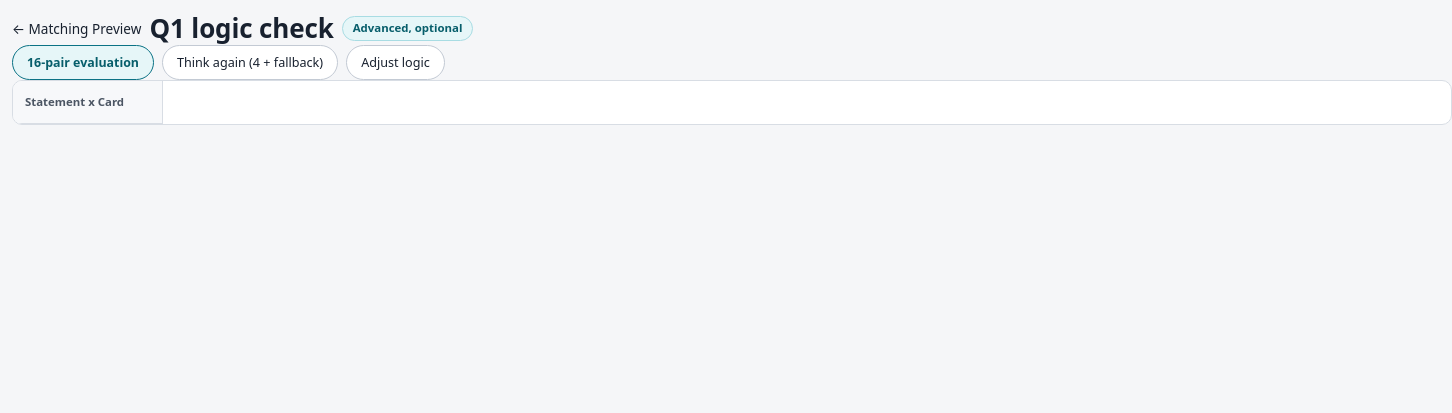
Test: T8 logic review › the Logic dropdown picks a prompt with the keyboard
Press the mouse on the tab "Adjust logic" at [395, 62], box [346, 44, 445, 80]
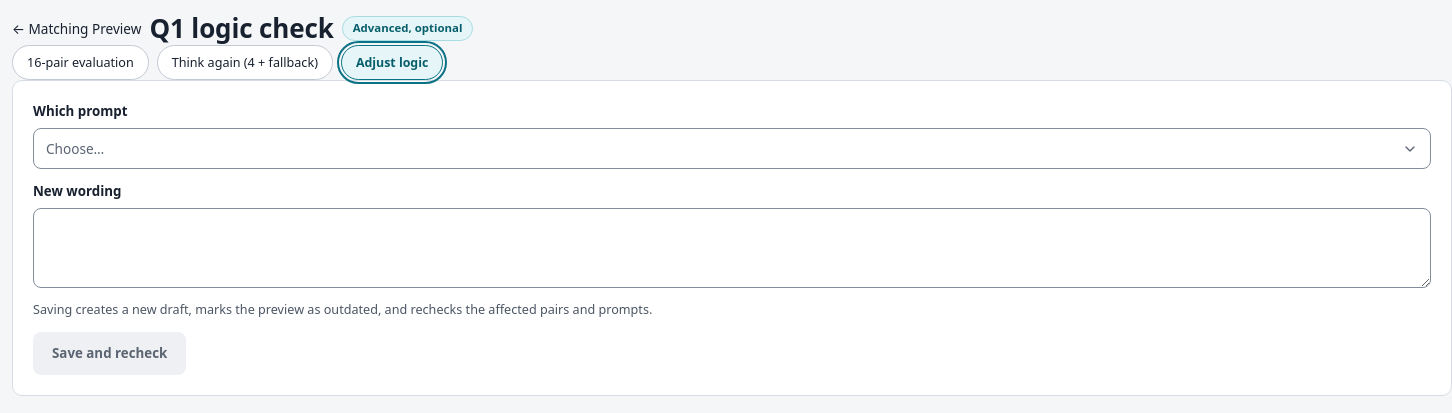
Press Enter in the dropdown named "Which prompt", box [33, 128, 1431, 169]
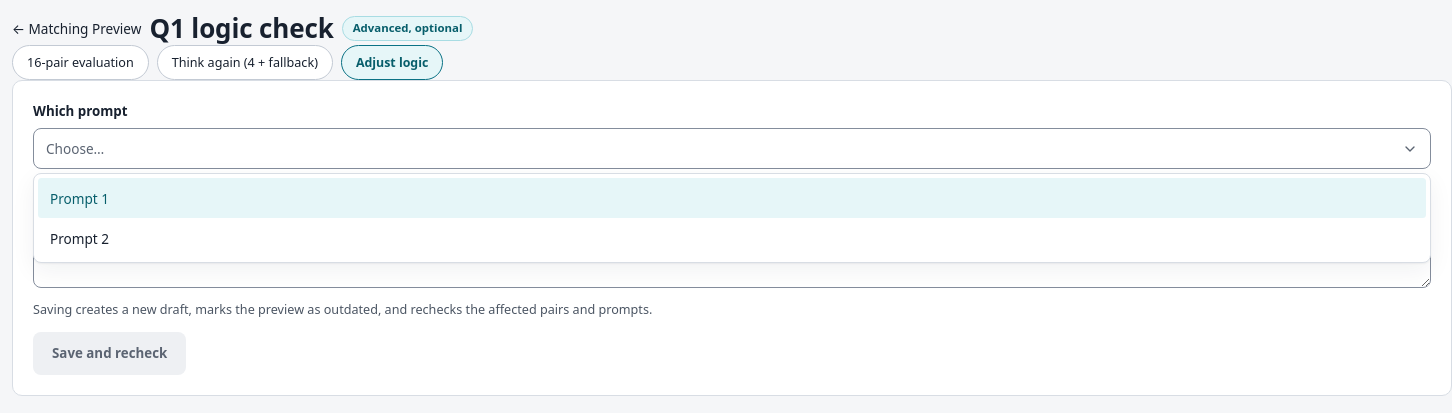
Press Enter in the option "Prompt 2", box [50, 228, 109, 248]
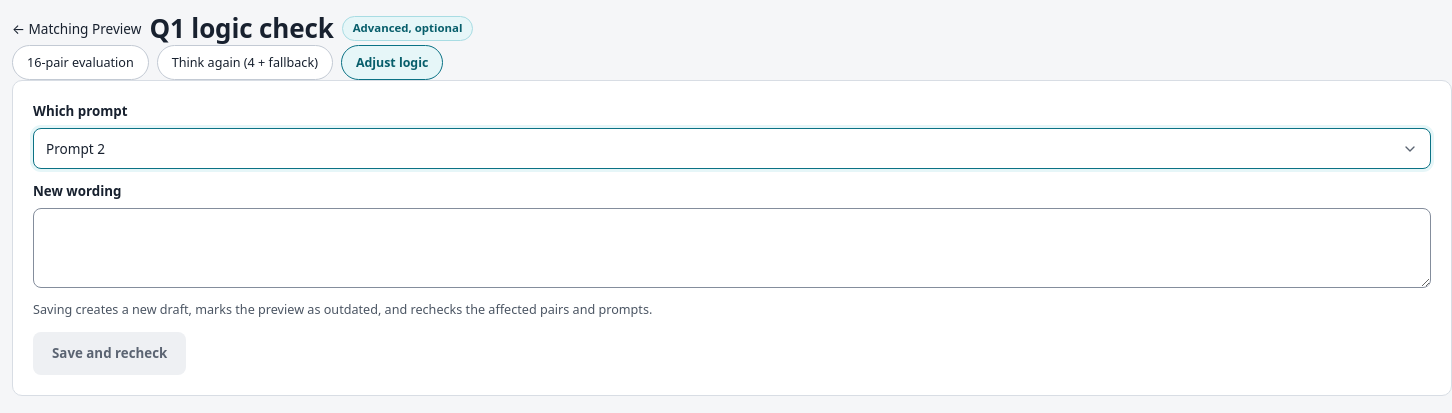
Now the dropdown named "Which prompt" reads "Prompt 2", box [33, 128, 1431, 169]
